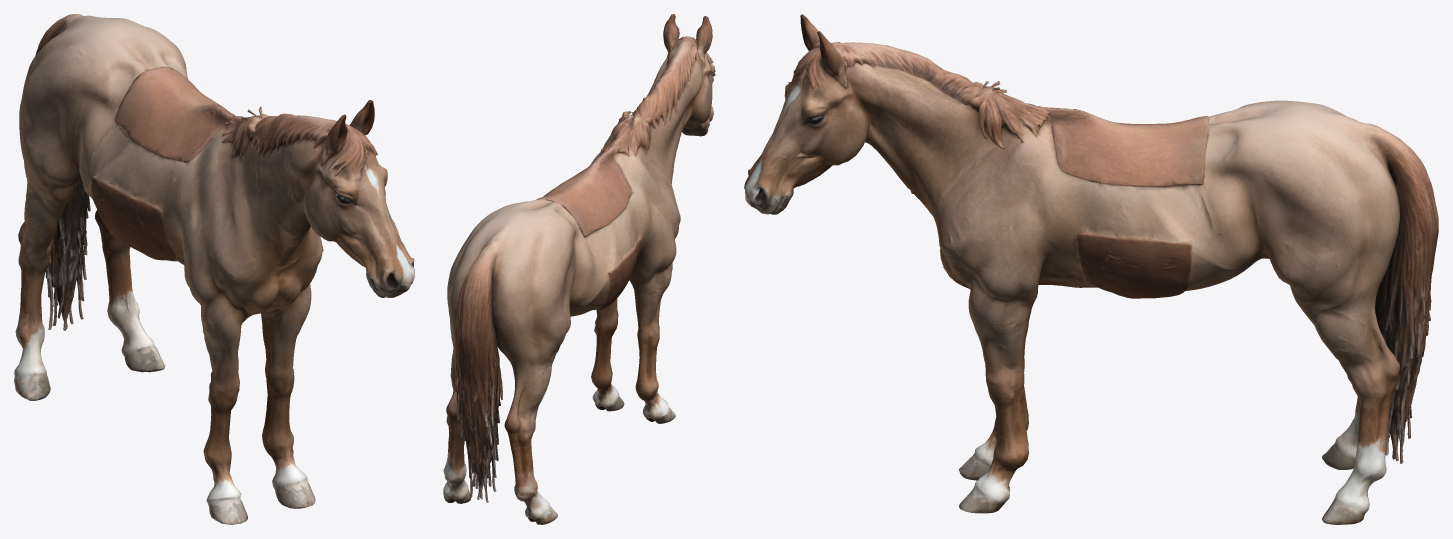
The model's file is Cheval_Tripo_Optimise_Qualite.glb.
3 renders of one model, left to right at view 1: azimuth 30°, elevation 25°; view 2: azimuth 150°, elevation 25°; view 3: azimuth 270°, elevation 25°, orthographic. The views are drawn at different scales.
Visible parts, largest first — view 1: tripo_node_3f1cd756-990e-4000-afc8-4705876cd041; view 2: tripo_node_3f1cd756-990e-4000-afc8-4705876cd041; view 3: tripo_node_3f1cd756-990e-4000-afc8-4705876cd041.
Part boxes in pixels (x1,y1,x2,y2): tripo_node_3f1cd756-990e-4000-afc8-4705876cd041: (14,14,414,524); tripo_node_3f1cd756-990e-4000-afc8-4705876cd041: (443,14,715,524); tripo_node_3f1cd756-990e-4000-afc8-4705876cd041: (744,14,1438,524).
Size of the model in its own units: 0.2457 by 0.7385 by 0.9798.
Materials: 1 (1 with a texture image).
